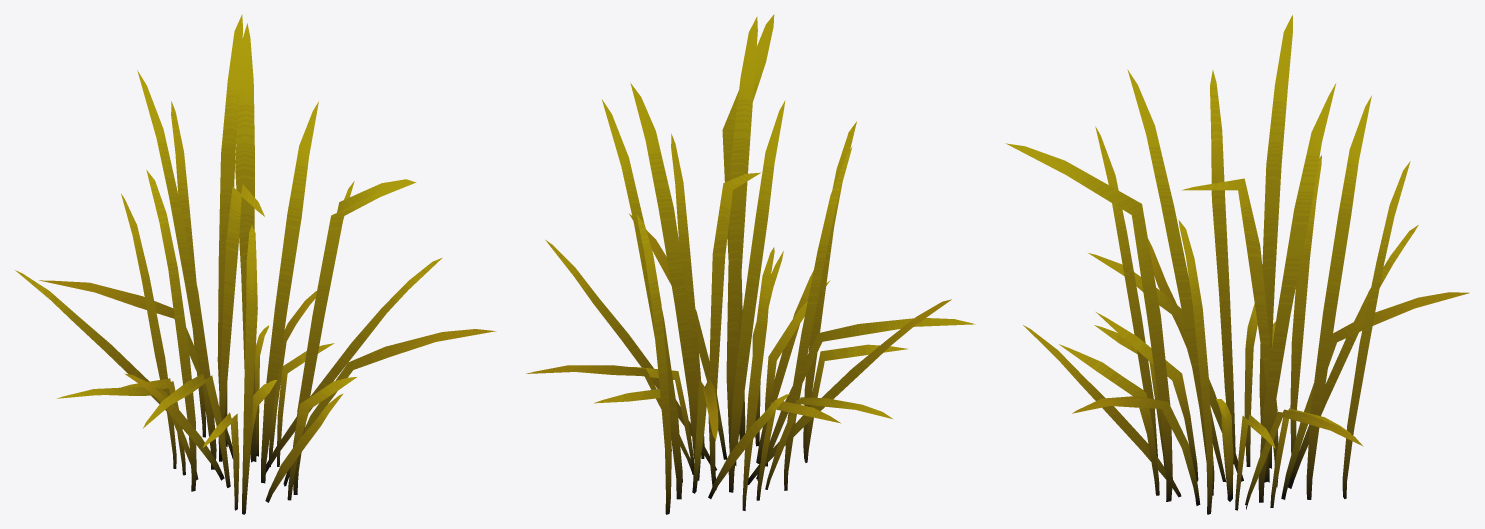
The model's file is Grass_Wispy_Tall.glb.
3 views of the same model, side by side, from view 1: azimuth 30°, elevation 25°; view 2: azimuth 150°, elevation 25°; view 3: azimuth 270°, elevation 25° (orthographic). The views are drawn at different scales.
Visible parts, largest first — view 1: Grass_Wispy_Tall; view 2: Grass_Wispy_Tall; view 3: Grass_Wispy_Tall.
Boxes of the visible parts, left/top/right/bottom form: Grass_Wispy_Tall: left=15, top=14, right=496, bottom=514; Grass_Wispy_Tall: left=526, top=14, right=975, bottom=514; Grass_Wispy_Tall: left=1005, top=15, right=1469, bottom=514.
Size of the model in its own units: 1.54 by 1.67 by 1.59.
Materials: 1 (1 with a texture image).
